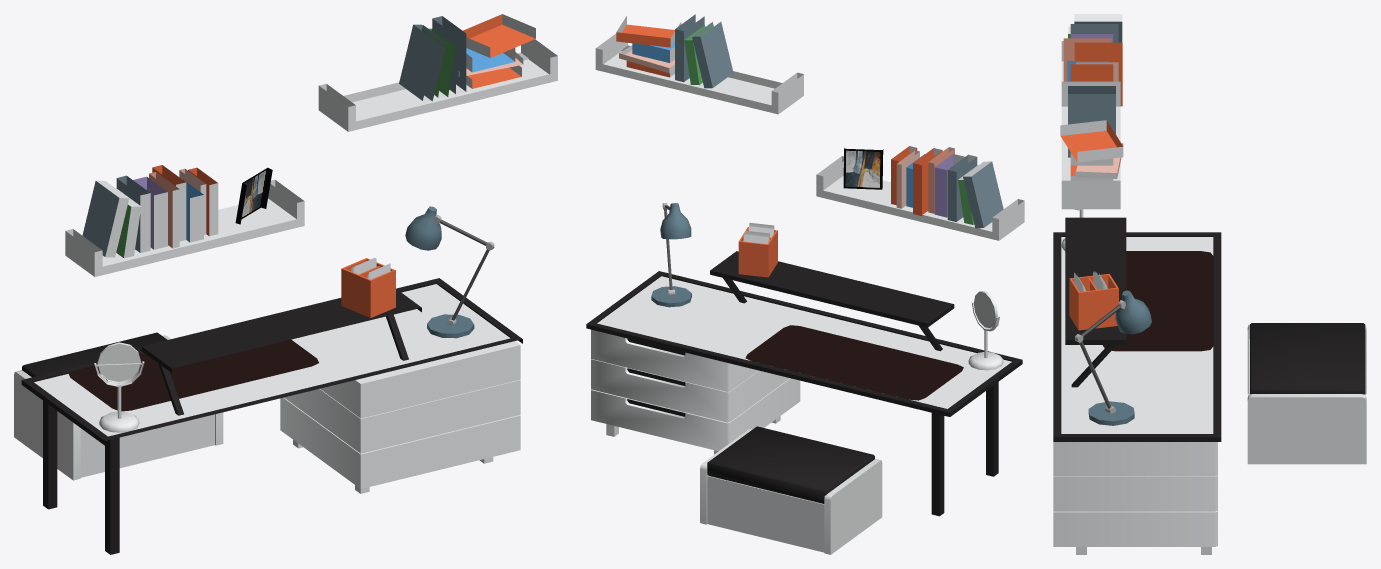
File: M_shuzhuo01.FBX
The picture shows the model from 3 angles, left to right: view 1: azimuth 30°, elevation 25°; view 2: azimuth 150°, elevation 25°; view 3: azimuth 270°, elevation 25°; orthographic projection. The views are drawn at different scales.
Parts seen in each view (by area): view 1: M_shuzhuo01_01, M_shuzhuo01_02, M_shuzhuo01_03, M_shuzhuo01_05, M_shuzhuo01_04; view 2: M_shuzhuo01_01, M_shuzhuo01_02, M_shuzhuo01_03, M_shuzhuo01_04, M_shuzhuo01_05; view 3: M_shuzhuo01_01, M_shuzhuo01_02, M_shuzhuo01_03, M_shuzhuo01_05.
Part boxes in pixels (x1,y1,x2,y2): M_shuzhuo01_01: (14, 39, 557, 554); M_shuzhuo01_02: (22, 14, 535, 411); M_shuzhuo01_03: (34, 258, 510, 436); M_shuzhuo01_05: (158, 215, 494, 415); M_shuzhuo01_04: (235, 167, 272, 224); M_shuzhuo01_01: (586, 33, 1024, 554); M_shuzhuo01_02: (616, 14, 1003, 503); M_shuzhuo01_03: (597, 227, 1011, 408); M_shuzhuo01_04: (843, 148, 883, 189); M_shuzhuo01_05: (662, 203, 994, 351); M_shuzhuo01_01: (1053, 41, 1366, 554); M_shuzhuo01_02: (1060, 14, 1365, 394); M_shuzhuo01_03: (1061, 209, 1213, 433); M_shuzhuo01_05: (1071, 300, 1125, 413).
Size of the model in its own units: 3.41 by 3.09 by 1.99.
